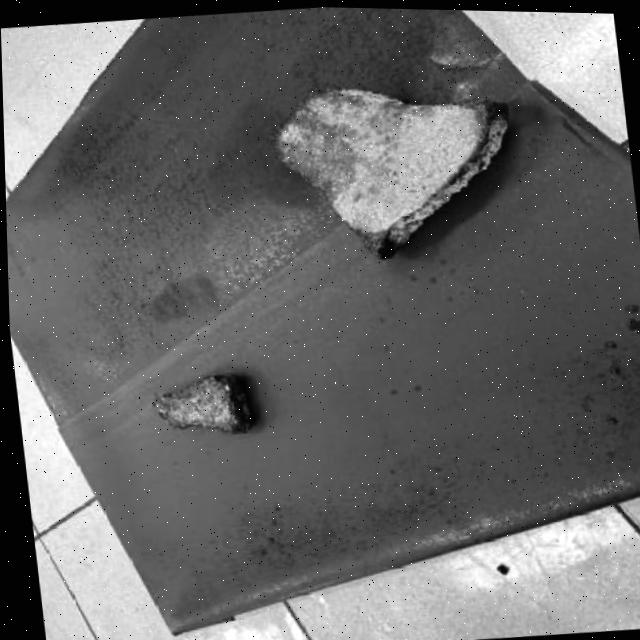Road Debris: (268, 89, 364, 207), (147, 377, 235, 439)
